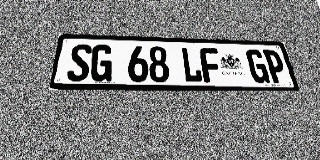6: (128, 45, 149, 82)
8: (149, 46, 169, 82)
F: (199, 48, 223, 83)
G: (89, 44, 113, 82), (245, 49, 271, 83)
L: (181, 47, 203, 83)
P: (262, 50, 288, 83)
S: (66, 44, 92, 81)
